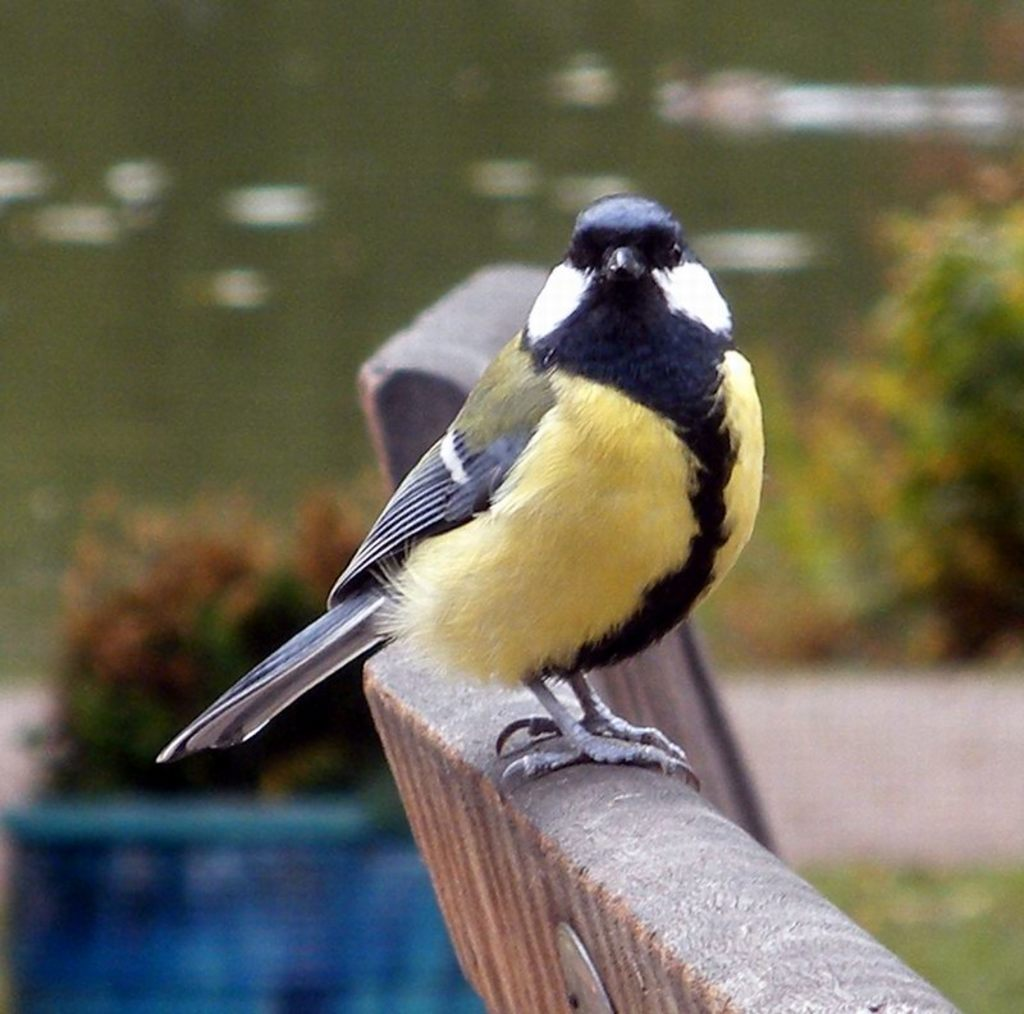Bird: (156, 191, 767, 804)
